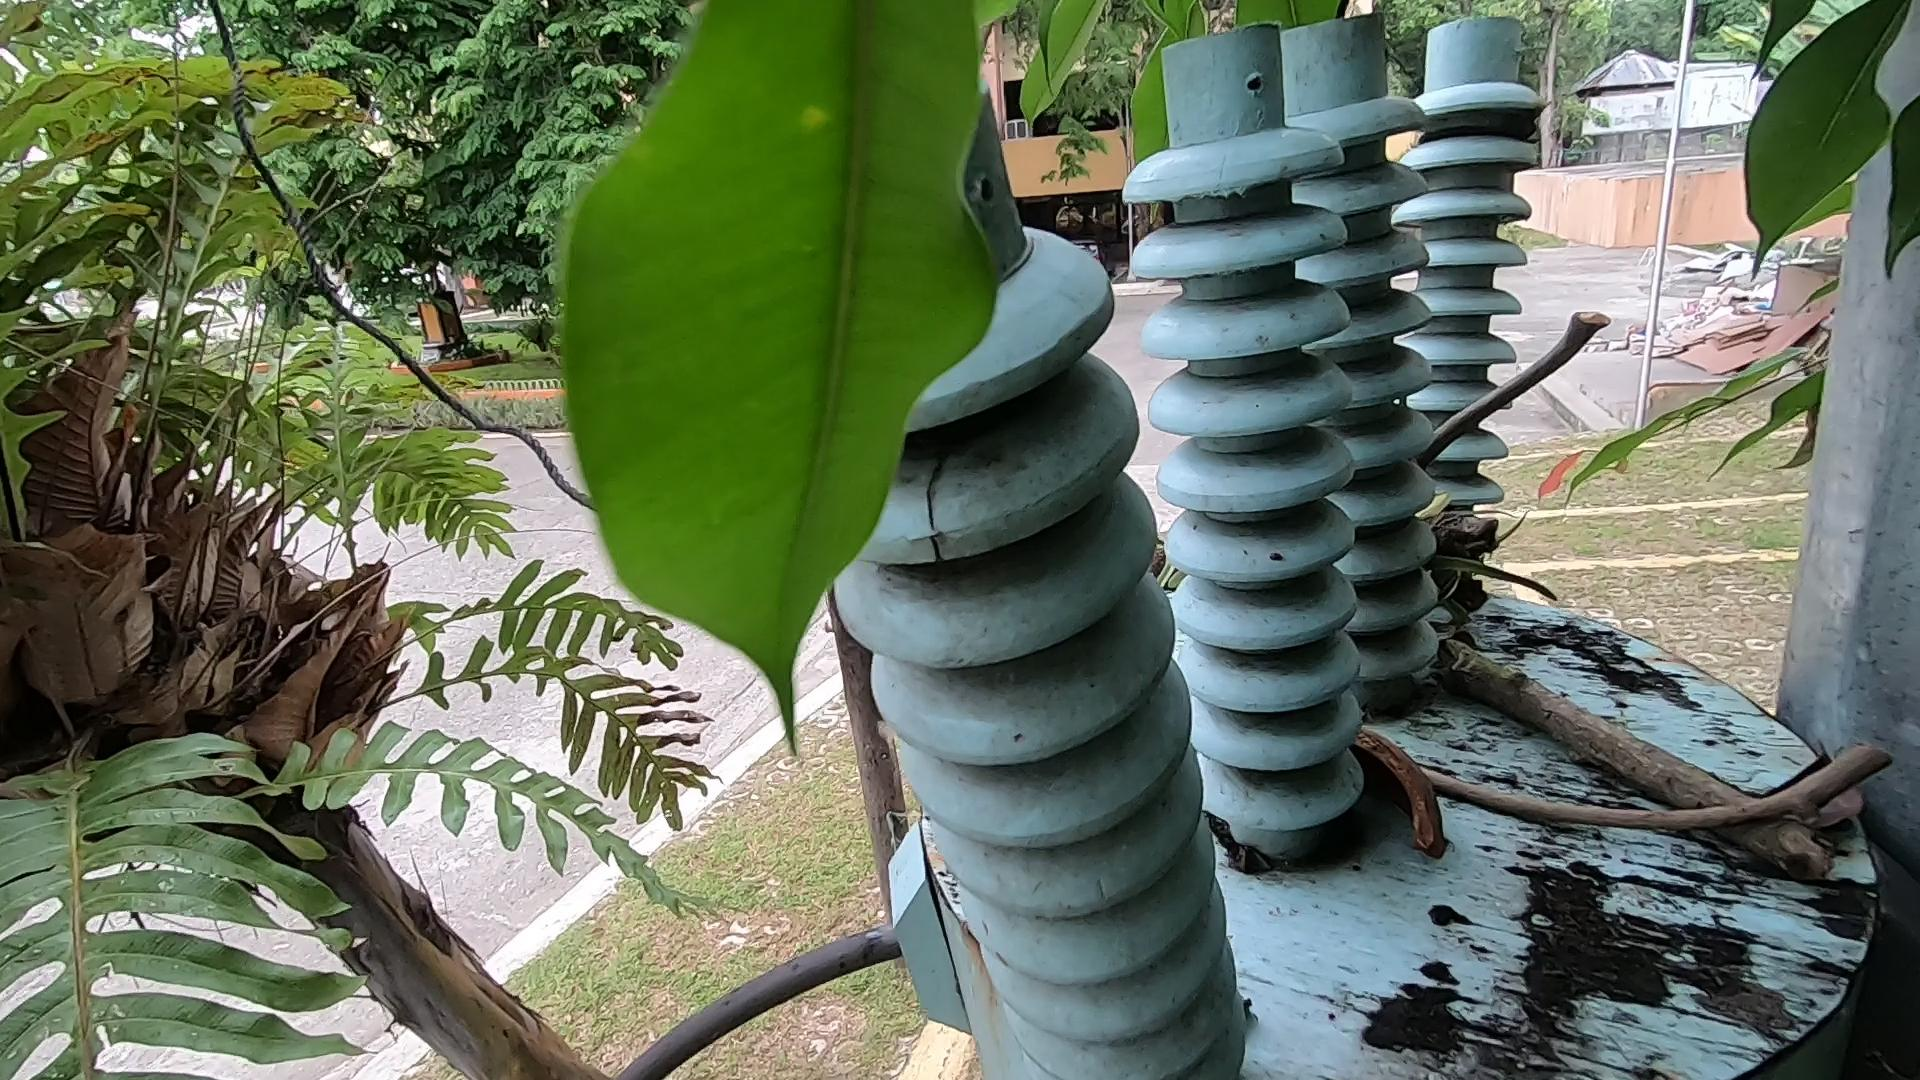branch with leaves: (1412, 480, 1904, 882)
leaf: (1785, 728, 1895, 894)
mahogany fruit: (1329, 703, 1476, 876)
tree branch: (1379, 724, 1920, 864), (1418, 290, 1664, 442)
